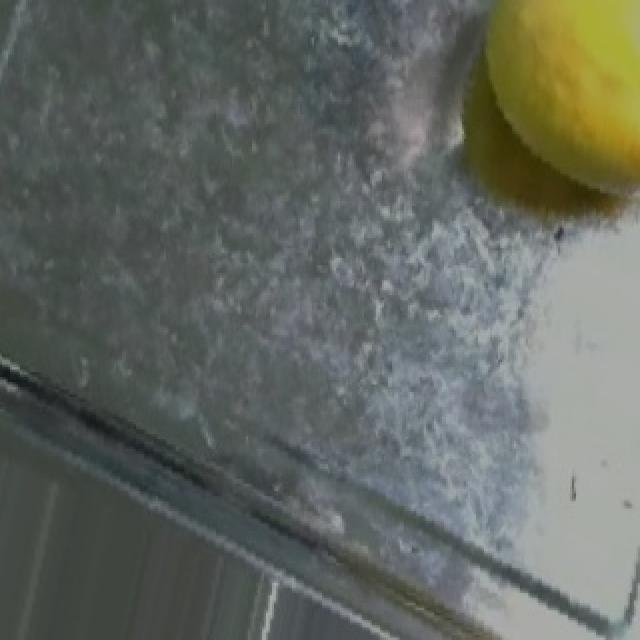fruit: (448, 0, 640, 241)
